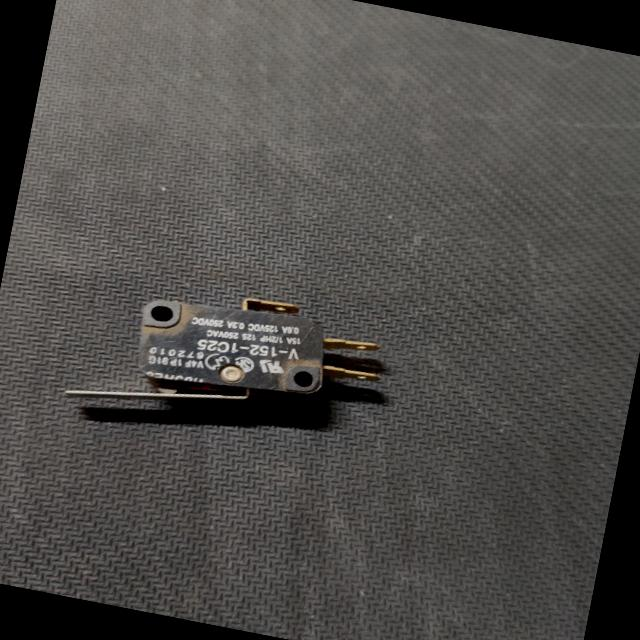switch: (53, 256, 404, 473)
